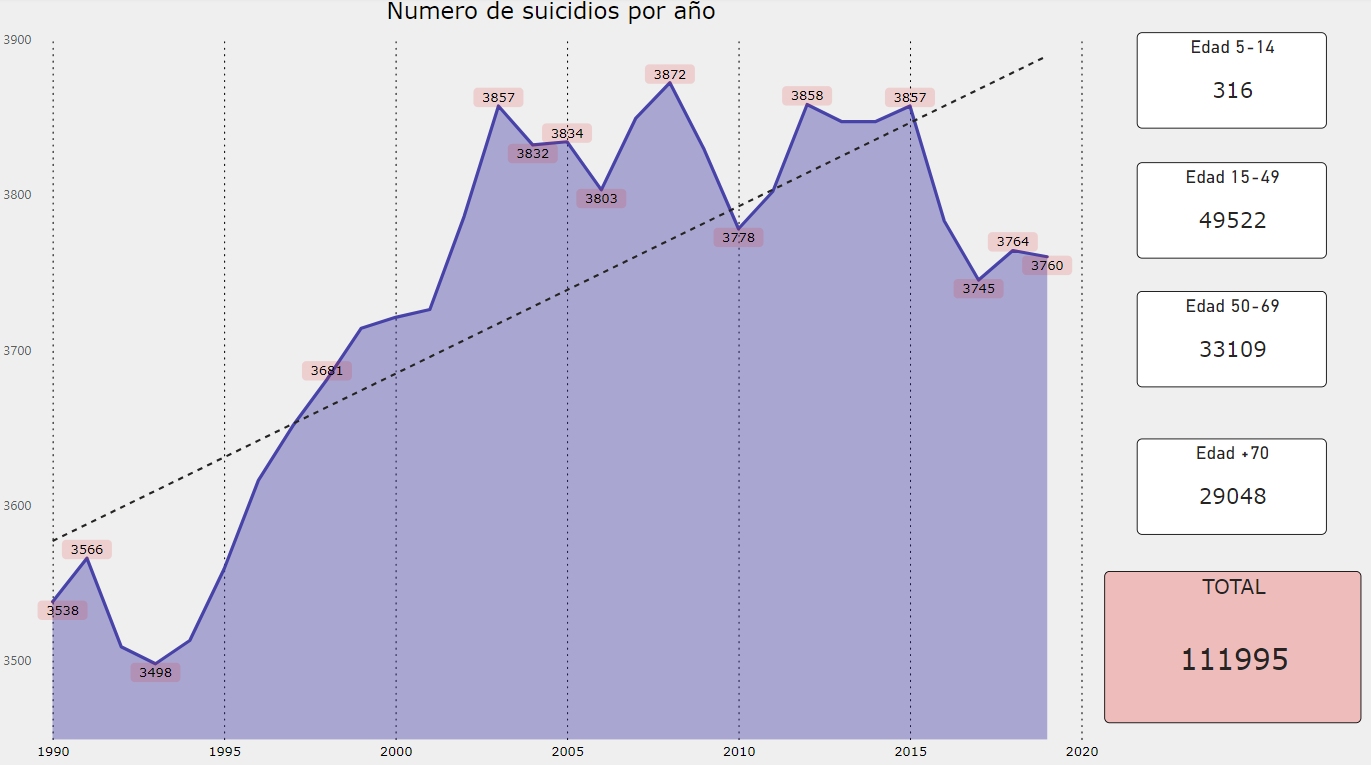

The page's visual inventory and layout, read from the dashboard file:
{"tool":"powerbi","page":{"name":"Página 1","canvas":[1280,720],"ordinal":0},"visuals":[{"type":"areaChart","title":"Numero de suicidios por año","fields":{"Category":["Tasa_España.Year"],"Y":["Sum(Tasa_España.Total)"]},"box":[0,0,1029.1,719.8],"z":0},{"type":"card","title":"Edad +70","fields":{"Values":["Sum(Tasa_España.Death_Age_+70)"]},"box":[1059.3,411.8,176.7,89.5],"z":1000},{"type":"card","title":"Edad 15-49","fields":{"Values":["Sum(Tasa_España.Death_Age_15-49)"]},"box":[1059.3,154.8,176.7,89.5],"z":2000},{"type":"card","title":"Edad 5-14","fields":{"Values":["Sum(Tasa_España.Death_Age_5-14)"]},"box":[1059.3,33.9,176.7,89.5],"z":3000},{"type":"card","title":"Edad 50-69","fields":{"Values":["Sum(Tasa_España.Death_Age_50-69)"]},"box":[1059.3,274.6,176.7,89.5],"z":4000},{"type":"card","title":"TOTAL","fields":{"Values":["Sum(Tasa_España.Total)"]},"box":[1029.1,534.9,239.5,141.9],"z":5000}]}

Visuals, with their boxes in screenshot pixels (x1, y1, x2, y2), scaled from the page's 1280x720 canvas onto the 1371x765 screenshot:
"Numero de suicidios por año" areaChart: BBox(0, 0, 1102, 764)
"Edad +70" card: BBox(1135, 438, 1324, 533)
"Edad 15-49" card: BBox(1135, 164, 1324, 260)
"Edad 5-14" card: BBox(1135, 36, 1324, 131)
"Edad 50-69" card: BBox(1135, 292, 1324, 387)
"TOTAL" card: BBox(1102, 568, 1359, 719)
